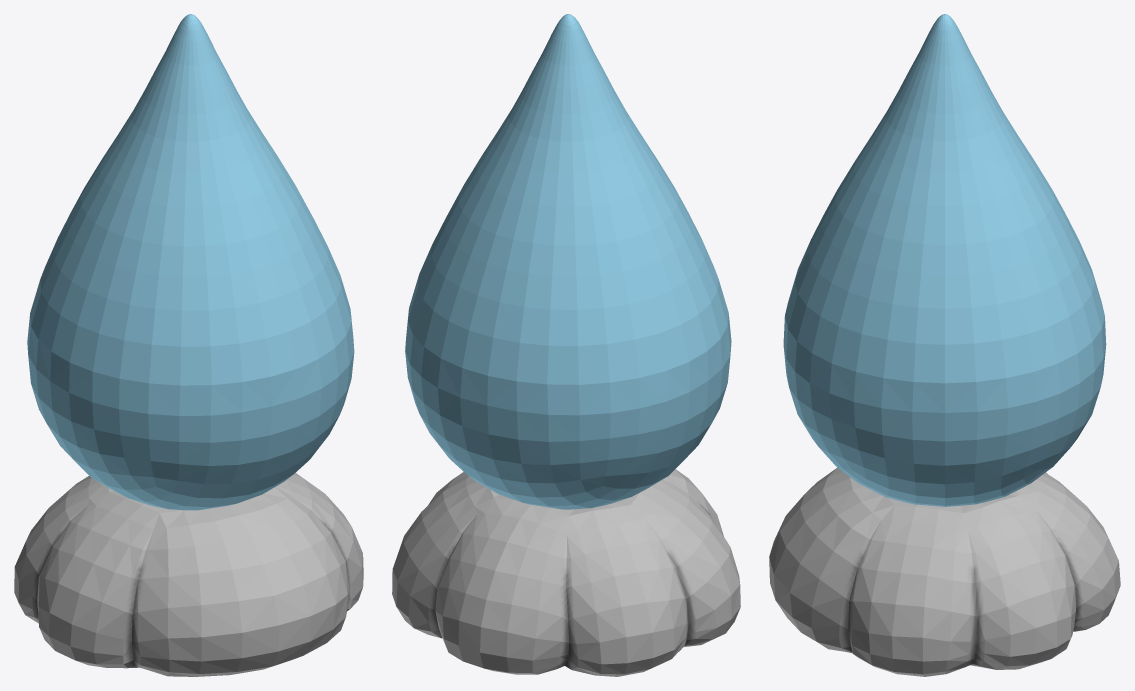
The model's file is XY_CastformRainy.fbx.
The picture shows the model from 3 angles, left to right: view 1: azimuth 30°, elevation 25°; view 2: azimuth 150°, elevation 25°; view 3: azimuth 270°, elevation 25°; orthographic projection.
Parts seen in each view (by area): view 1: CastformRainy; view 2: CastformRainy; view 3: CastformRainy.
Boxes of the visible parts, x1,y1,x2,y2 form: CastformRainy: (14,14,363,676); CastformRainy: (392,14,740,676); CastformRainy: (769,14,1120,676).
Bounding box in the file's own units: 22.24 × 42.25 × 22.33.
Materials: 4 (4 with a texture image).
